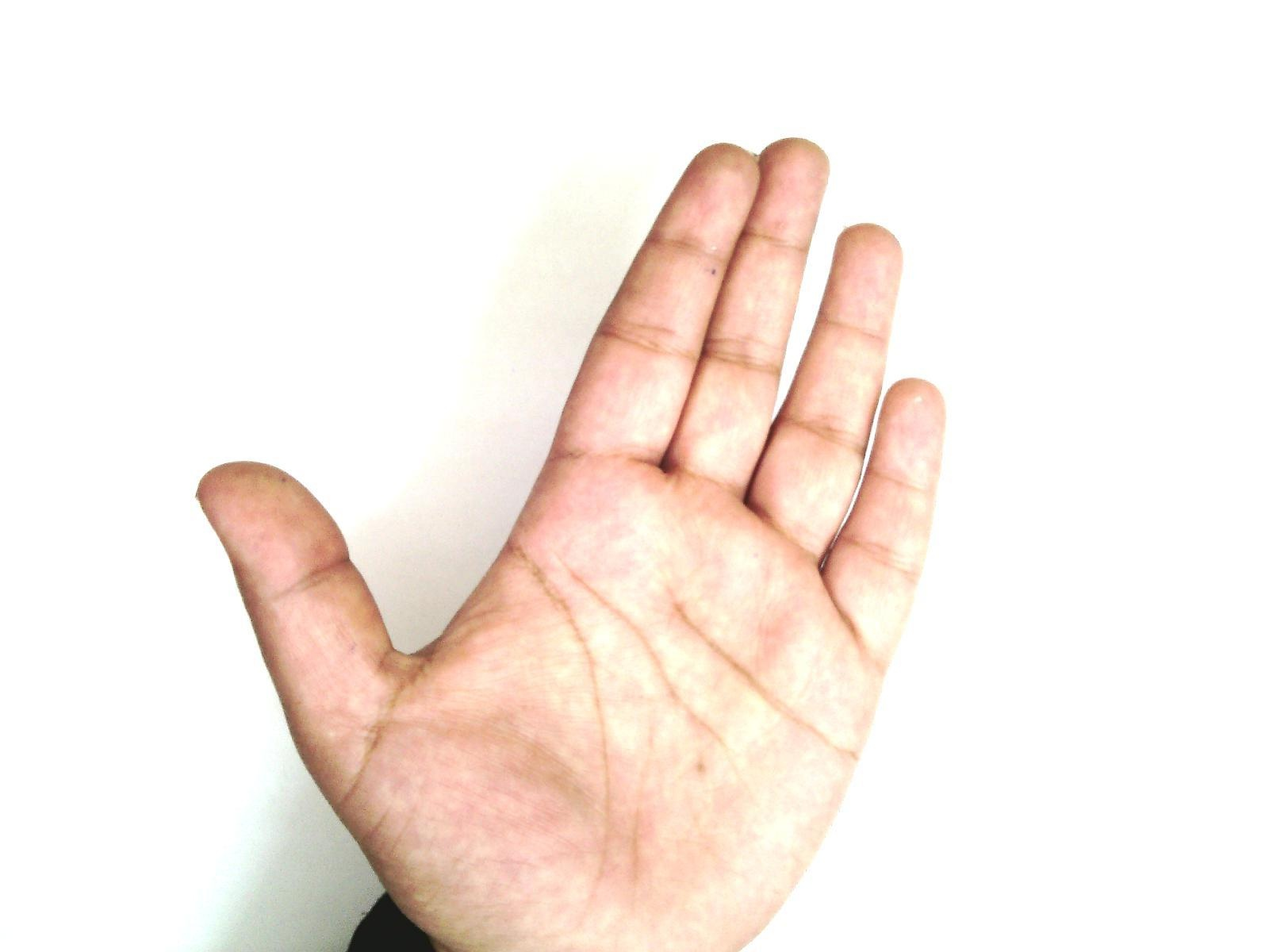open_palm: (194, 136, 950, 952)
